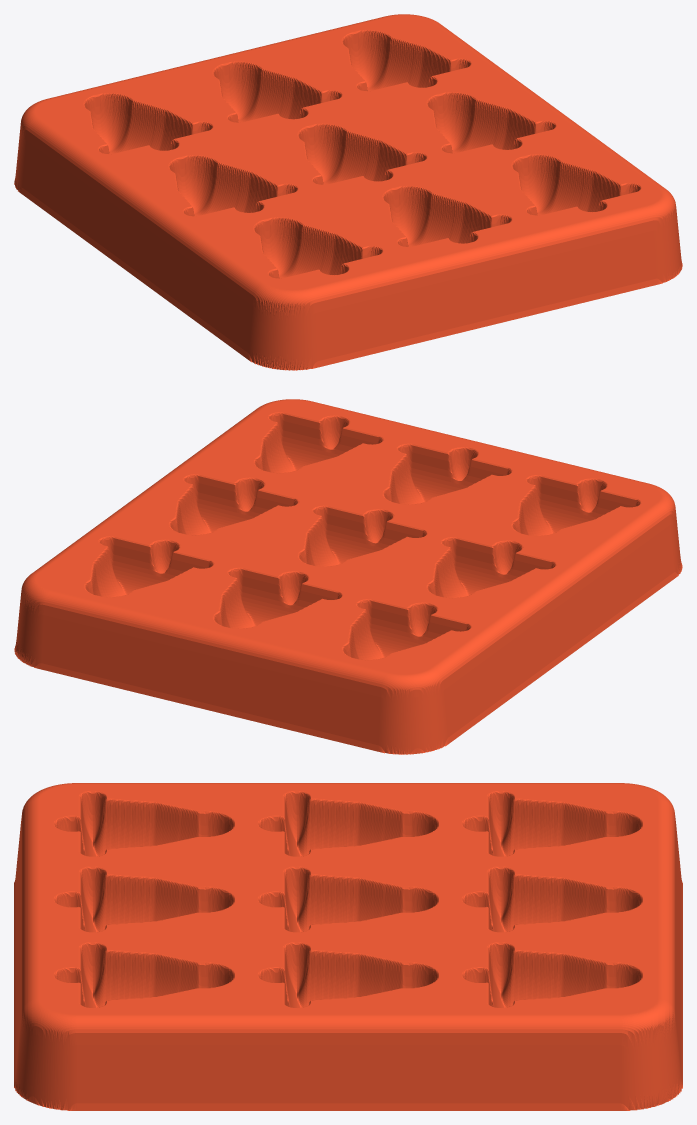
File: mold.glb
3 views of the same model, one above another, from view 1: azimuth 30°, elevation 25°; view 2: azimuth 150°, elevation 25°; view 3: azimuth 270°, elevation 25° (orthographic). The views are drawn at different scales.
Visible parts, largest first — view 1: geometry_0; view 2: geometry_0; view 3: geometry_0.
Part boxes in pixels (<box>): geometry_0: <box>14,14,682,370</box>; geometry_0: <box>14,399,682,754</box>; geometry_0: <box>14,783,682,1110</box>.
Size of the model in its own units: 0.0856 by 0.0136 by 0.0964.
